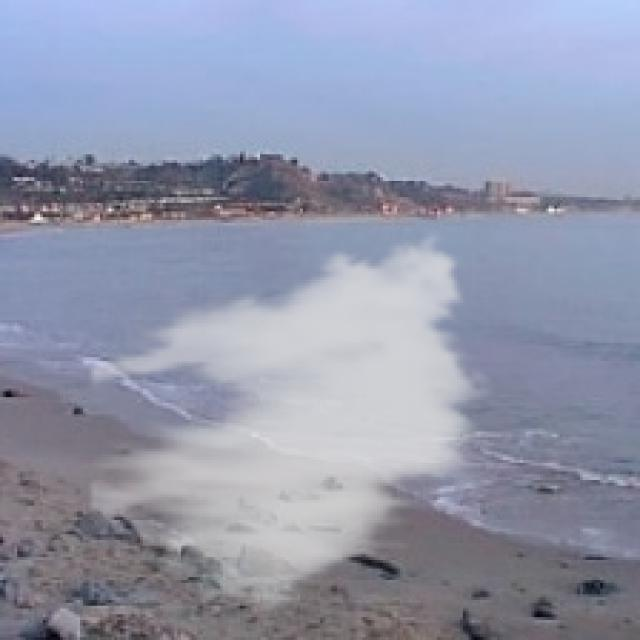smoke: (89, 223, 494, 623)
